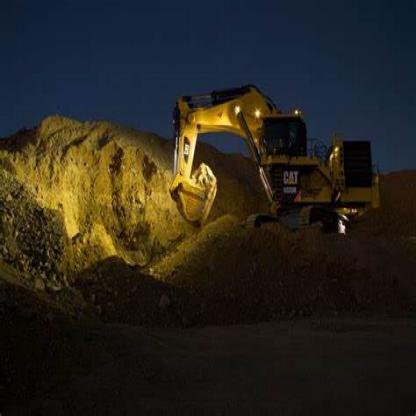excavator: (170, 83, 384, 250)
